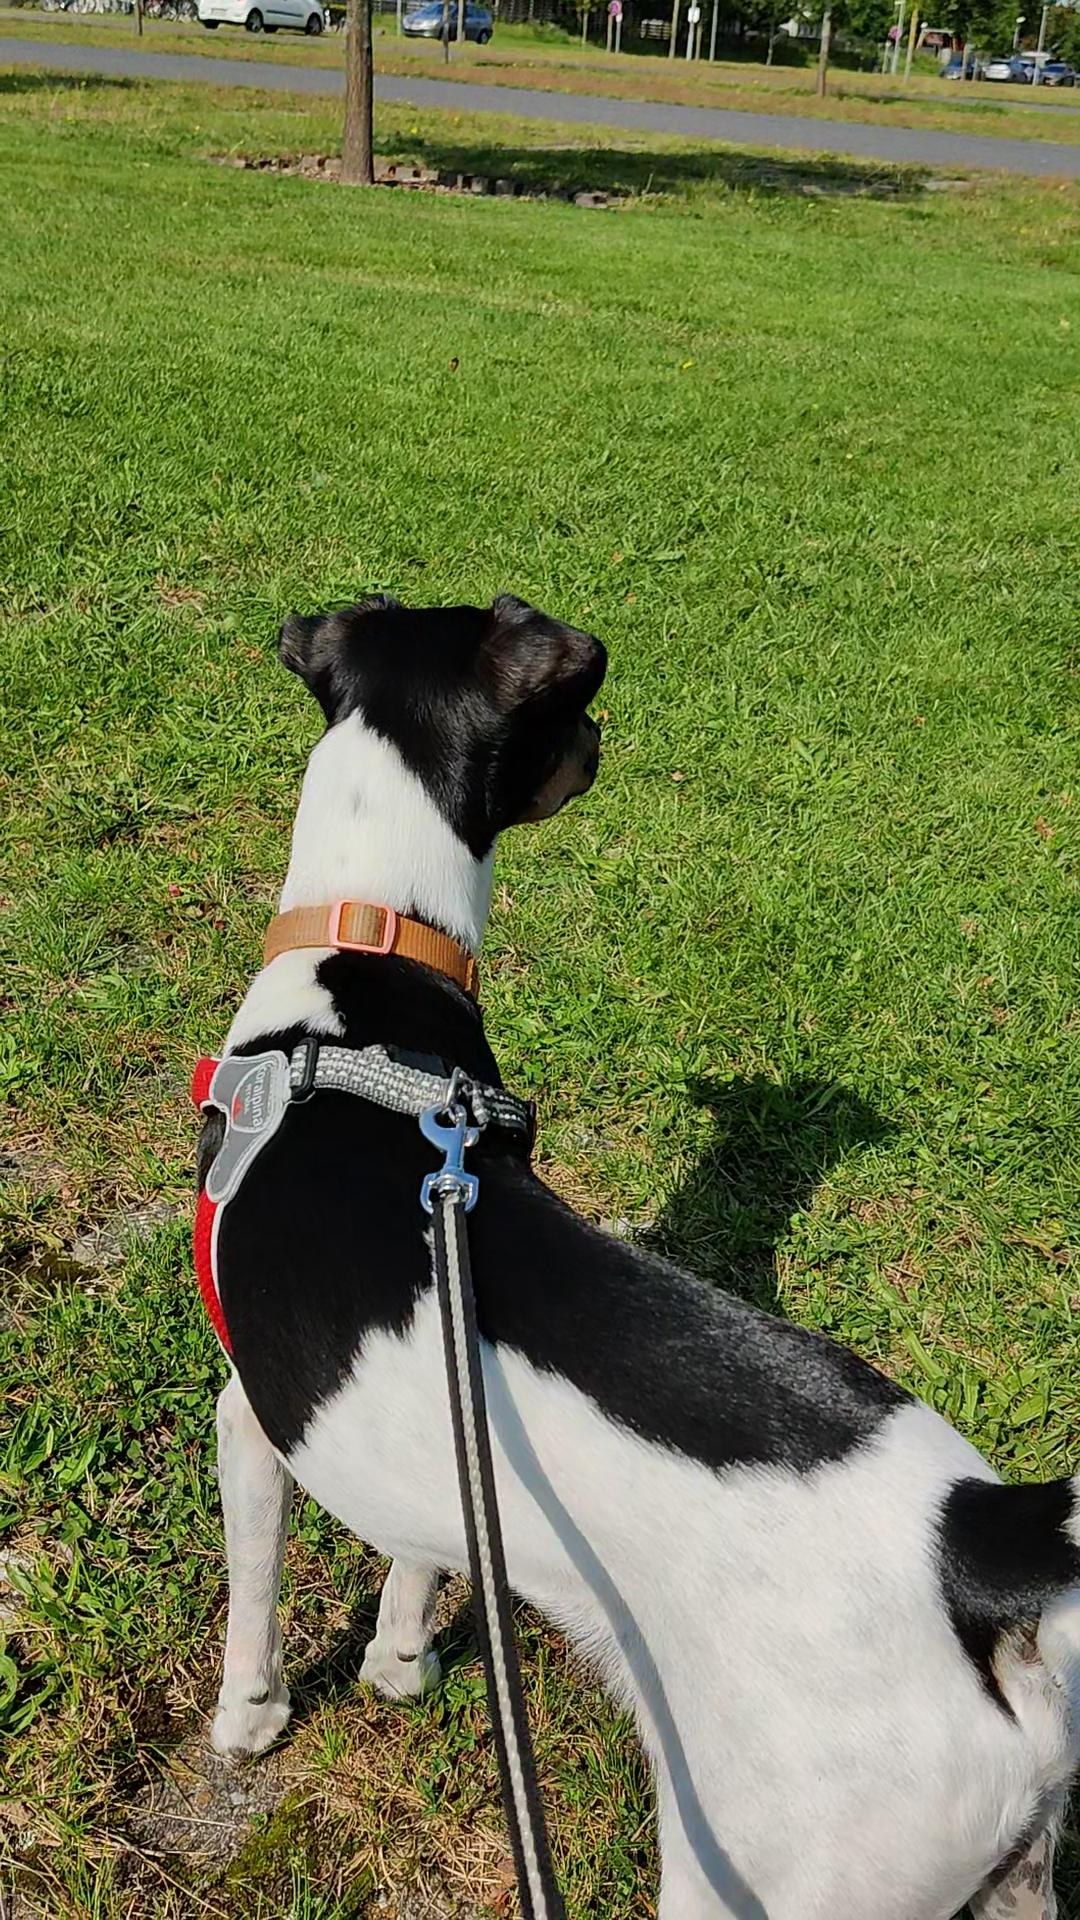Dog: (187, 568, 1079, 1919)
